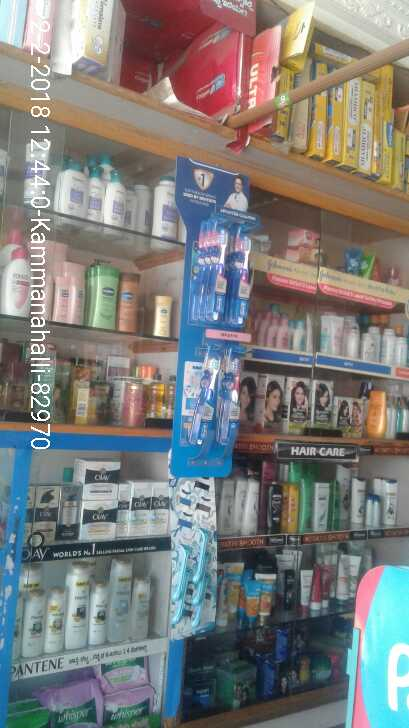beauty: (16, 562, 163, 655), (124, 478, 174, 538), (76, 496, 122, 538), (79, 459, 126, 500), (34, 486, 57, 551)
pharmacy: (44, 679, 109, 728), (189, 354, 223, 447), (199, 222, 229, 325), (231, 236, 255, 327), (105, 684, 154, 728), (225, 348, 245, 455)
